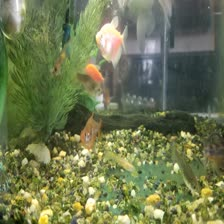Guppy: (162, 138, 201, 192), (101, 149, 135, 175)
Plano: (91, 12, 132, 60)
Transparente: (73, 110, 106, 148)
